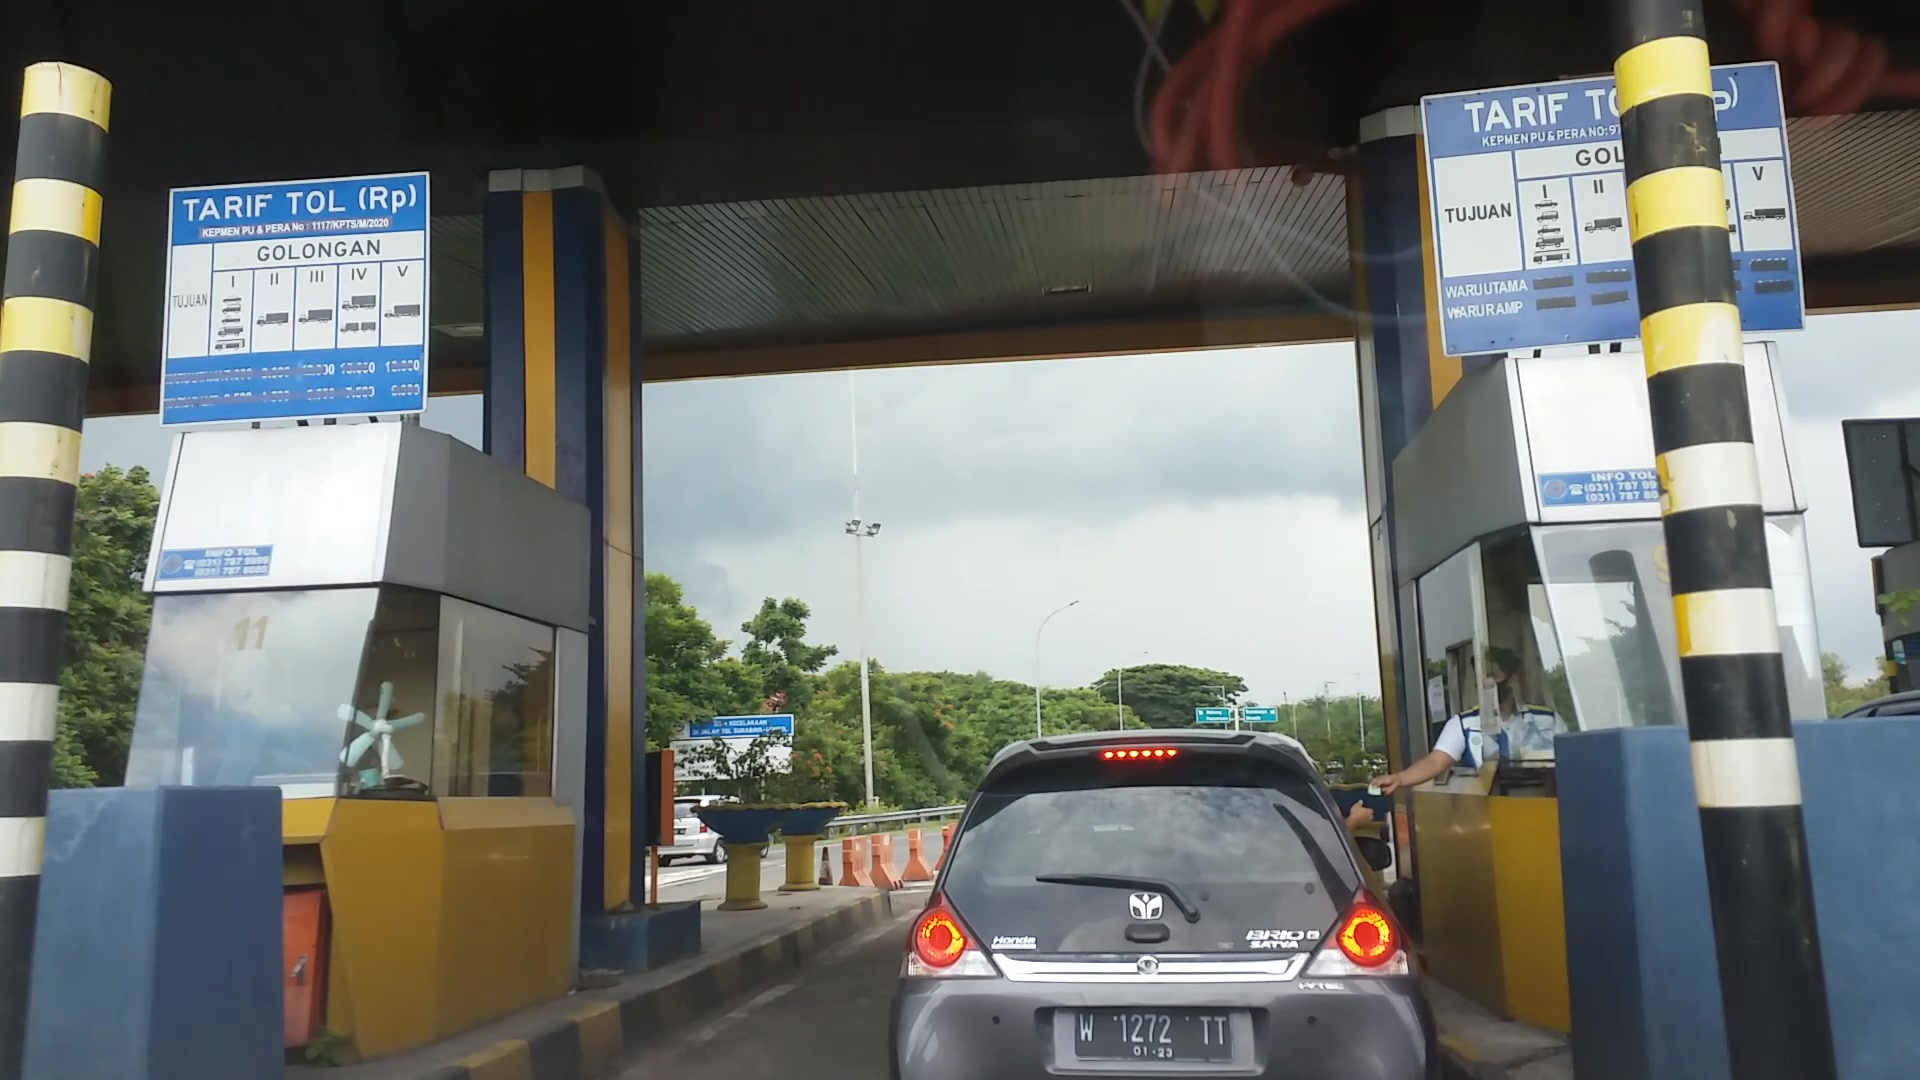plate_positive: (1075, 1007, 1232, 1062)
